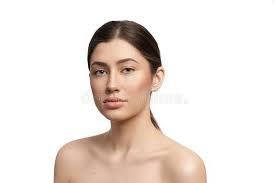person: (87, 20, 165, 124)
